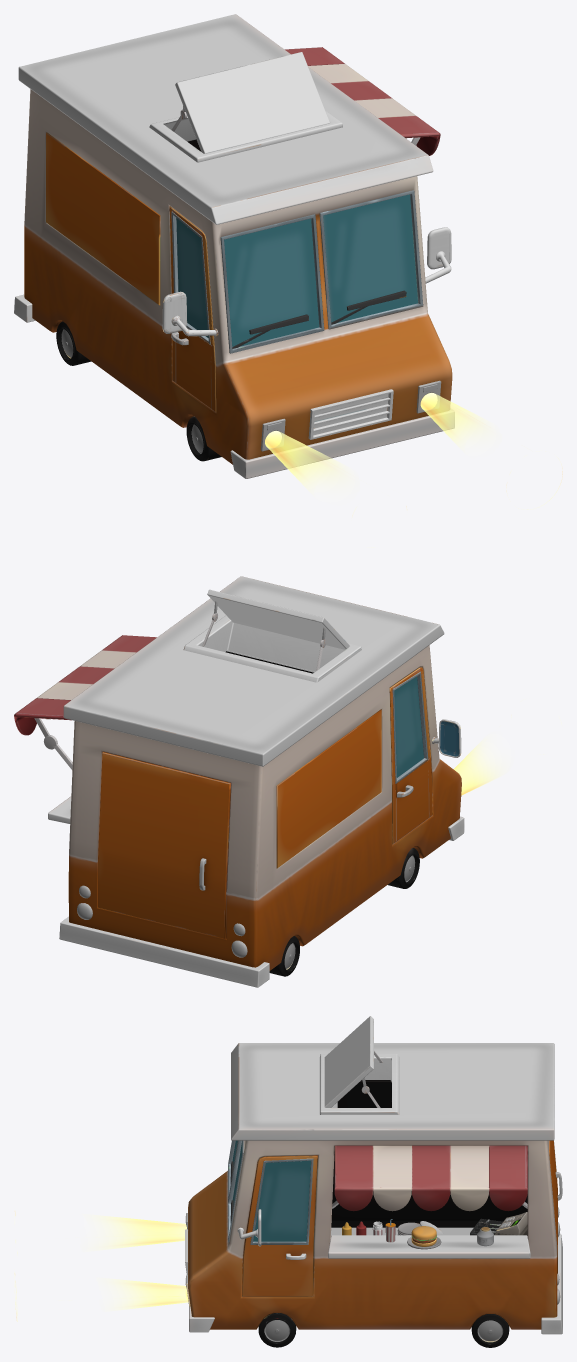
The picture shows the model from 3 angles, top to bottom: view 1: azimuth 30°, elevation 25°; view 2: azimuth 150°, elevation 25°; view 3: azimuth 270°, elevation 25°; orthographic projection. The views are drawn at different scales.
Parts seen in each view (by area): view 1: Scene_FInal_lambert1_0; view 2: Scene_FInal_lambert1_0; view 3: Scene_FInal_lambert1_0.
Boxes of the visible parts, left/top/right/bottom form: Scene_FInal_lambert1_0: left=14, top=14, right=562, bottom=547; Scene_FInal_lambert1_0: left=14, top=576, right=561, bottom=987; Scene_FInal_lambert1_0: left=14, top=1016, right=562, bottom=1347.
Bounding box in the file's own units: 0.1237 × 0.1199 × 0.2226.
Materials: 1 (1 with a texture image).
